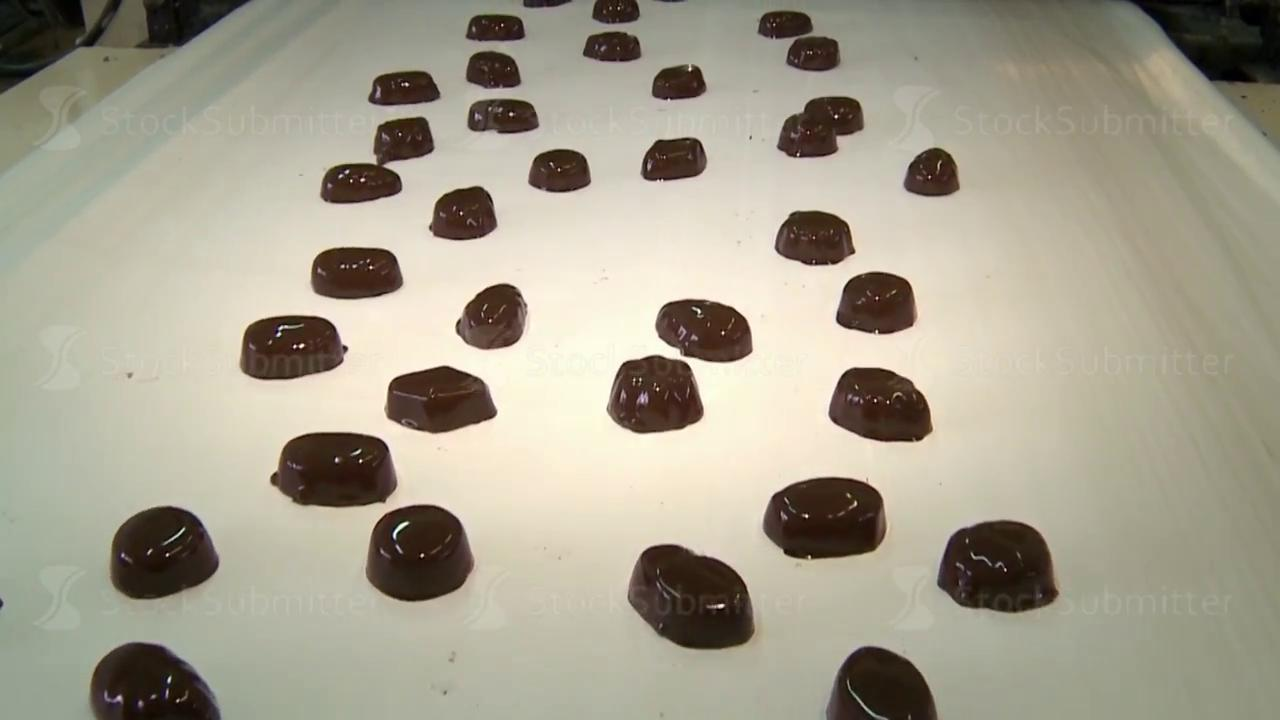chocolate: (627, 543, 754, 649), (937, 519, 1058, 612), (365, 503, 474, 601), (89, 641, 221, 719), (762, 476, 886, 559), (110, 505, 219, 599), (271, 431, 397, 507), (825, 645, 938, 719), (829, 366, 932, 442), (385, 365, 497, 433), (607, 354, 703, 433), (240, 314, 346, 379), (655, 298, 752, 362), (836, 271, 917, 334), (311, 246, 403, 298), (456, 283, 527, 349), (774, 209, 855, 265), (430, 185, 497, 240), (320, 162, 401, 203), (373, 116, 434, 163), (641, 137, 706, 181), (777, 112, 838, 157), (528, 148, 590, 192), (904, 147, 959, 196), (368, 70, 439, 105), (467, 98, 538, 133), (805, 95, 863, 134), (466, 50, 520, 88), (651, 63, 706, 100), (787, 35, 840, 70), (583, 30, 641, 61), (465, 14, 525, 41), (758, 10, 812, 38)
